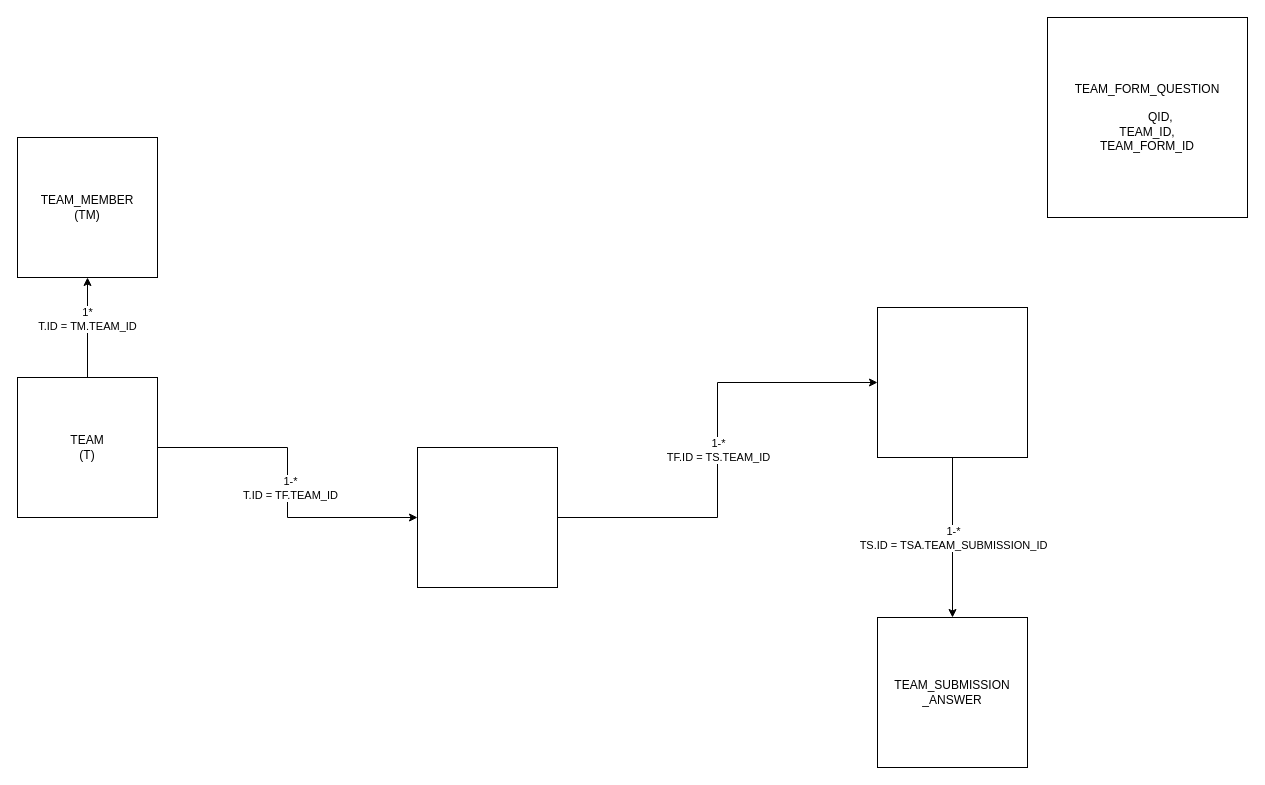
The diagram is 1265 pixels wide and 785 high, and some of its shapes have lost their labels. Here are the shapes that lost their labels. From the top down, the centre of each, then its label:
the point at 952,382: TEAM_SUBMISSION (TS)
the point at 487,517: TEAM_FORM (TF)
